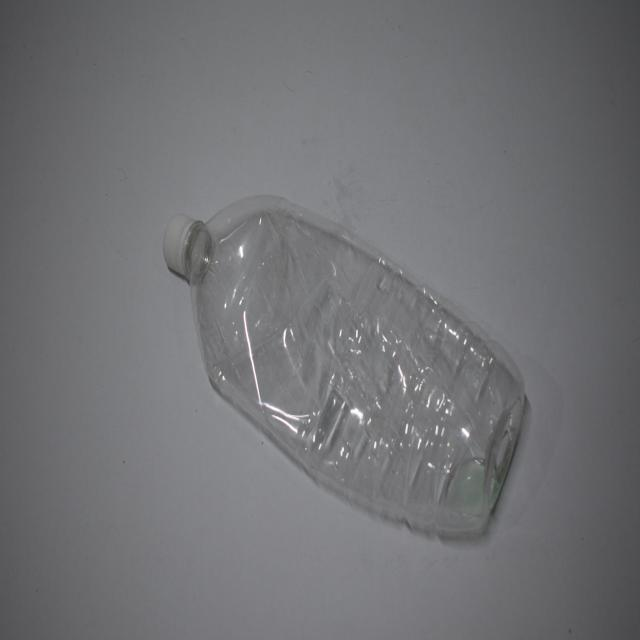bottle: (147, 192, 552, 554)
